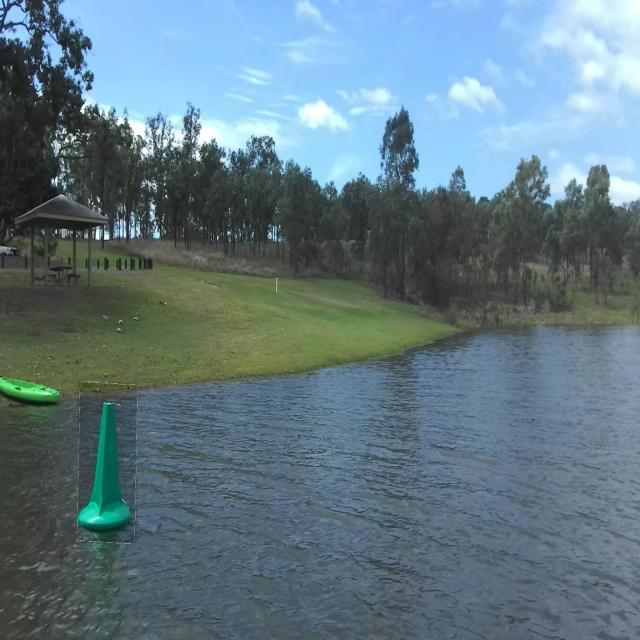Green_Buoy: (77, 380, 137, 559)
